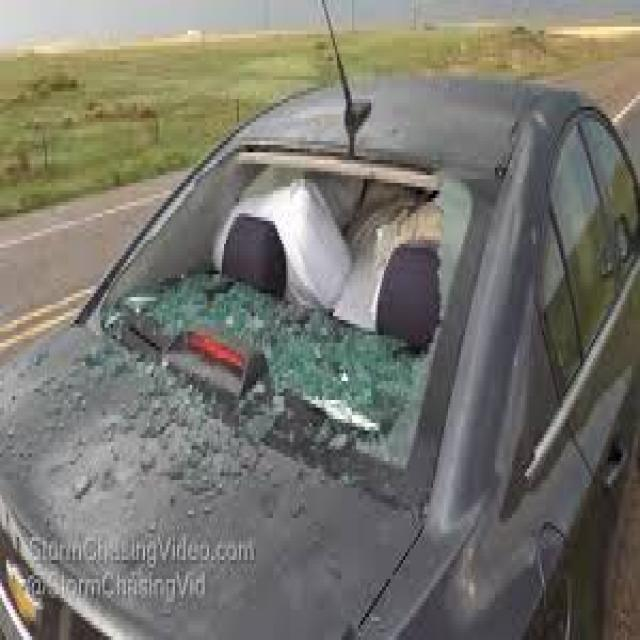minor: (13, 154, 413, 548)
